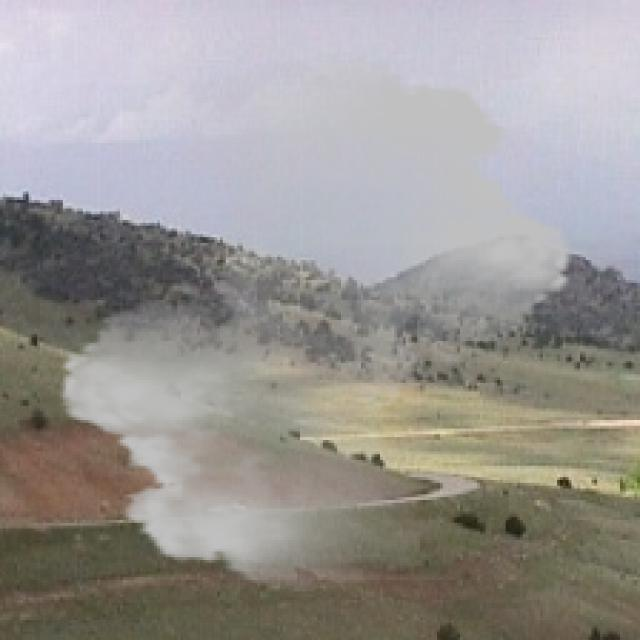Smoke: (42, 54, 588, 592)
